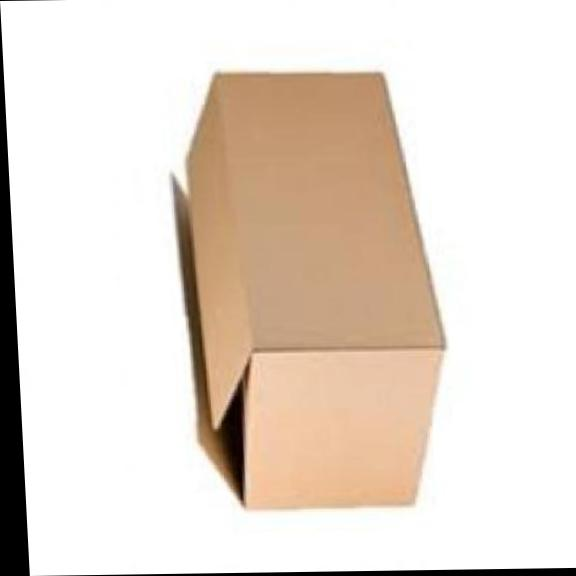Kertas: (172, 74, 442, 507)
